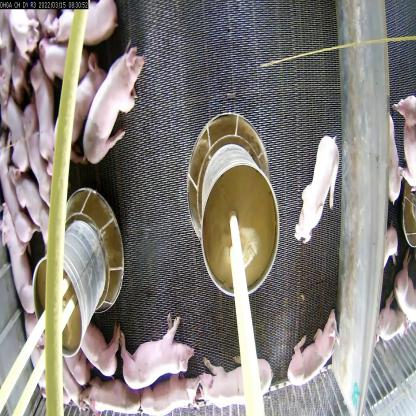Pig: (85, 45, 146, 173), (120, 310, 193, 387), (196, 346, 276, 415), (54, 58, 107, 155), (296, 132, 336, 255), (285, 306, 340, 392), (22, 99, 53, 222), (49, 0, 121, 50), (75, 308, 120, 387), (34, 64, 61, 193), (0, 135, 31, 244), (17, 180, 54, 264), (143, 371, 208, 415), (6, 220, 31, 330), (0, 88, 26, 171), (96, 372, 136, 416)
